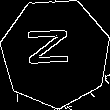N_E: (30, 31, 82, 74)
